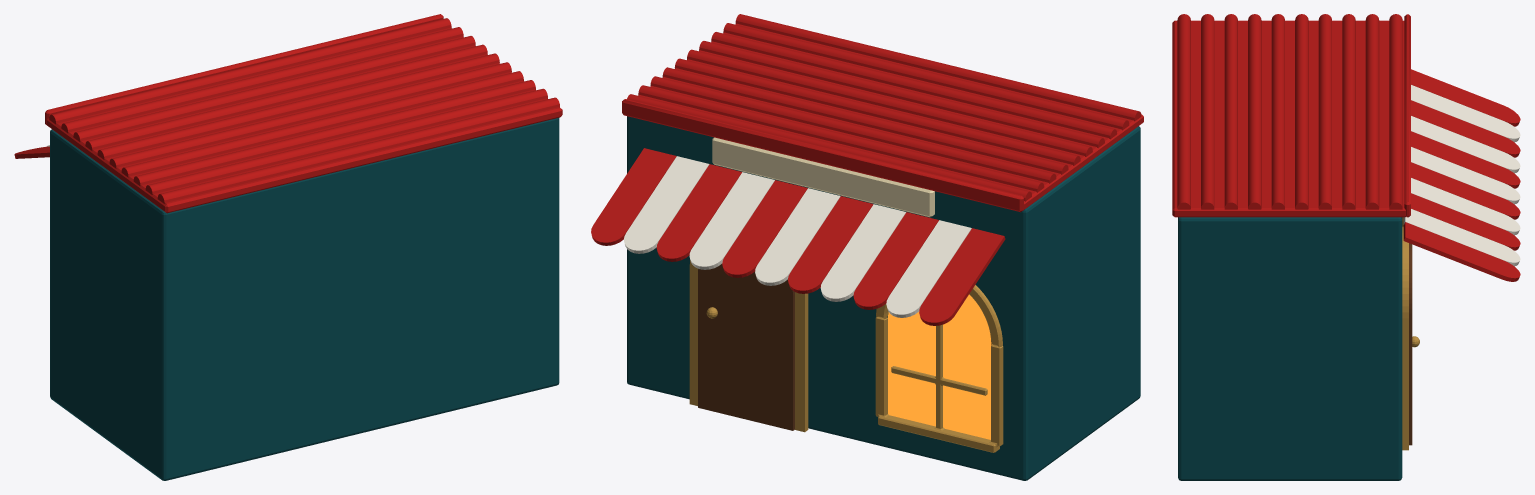
File: shopfront-v02.glb
3 views of the same model, side by side, from view 1: azimuth 30°, elevation 25°; view 2: azimuth 150°, elevation 25°; view 3: azimuth 270°, elevation 25° (orthographic). The views are drawn at different scales.
Parts seen in each view (by area): view 1: SM_shopfront_box, SM_roof_trim; view 2: SM_shopfront_box, SM_roof_trim, SM_awning, SM_door, SM_window, SM_sign_board; view 3: SM_shopfront_box, SM_roof_trim, SM_awning, SM_door.
Part boxes in pixels (x1,y1,x2,y2): SM_shopfront_box: [50, 118, 559, 480]; SM_roof_trim: [45, 14, 562, 213]; SM_shopfront_box: [627, 116, 1140, 480]; SM_roof_trim: [622, 14, 1143, 212]; SM_awning: [591, 148, 1005, 325]; SM_door: [689, 260, 808, 432]; SM_window: [875, 285, 1003, 452]; SM_sign_board: [712, 137, 934, 217]; SM_shopfront_box: [1178, 217, 1402, 480]; SM_roof_trim: [1172, 14, 1410, 217]; SM_awning: [1403, 69, 1520, 281]; SM_door: [1402, 226, 1419, 450].
Size of the model in its own units: 4 by 2.75 by 3.11.
